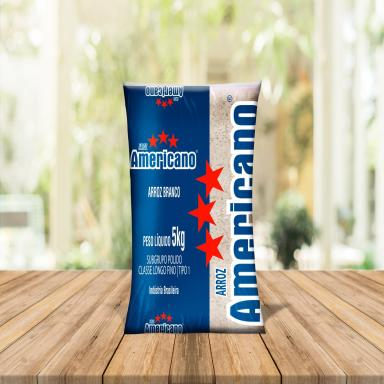rice package: (124, 83, 263, 333)
